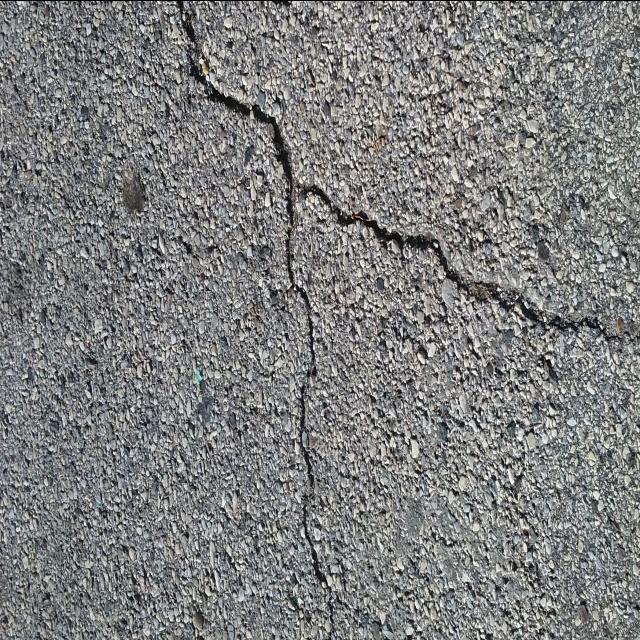Crack: (179, 0, 640, 640)
